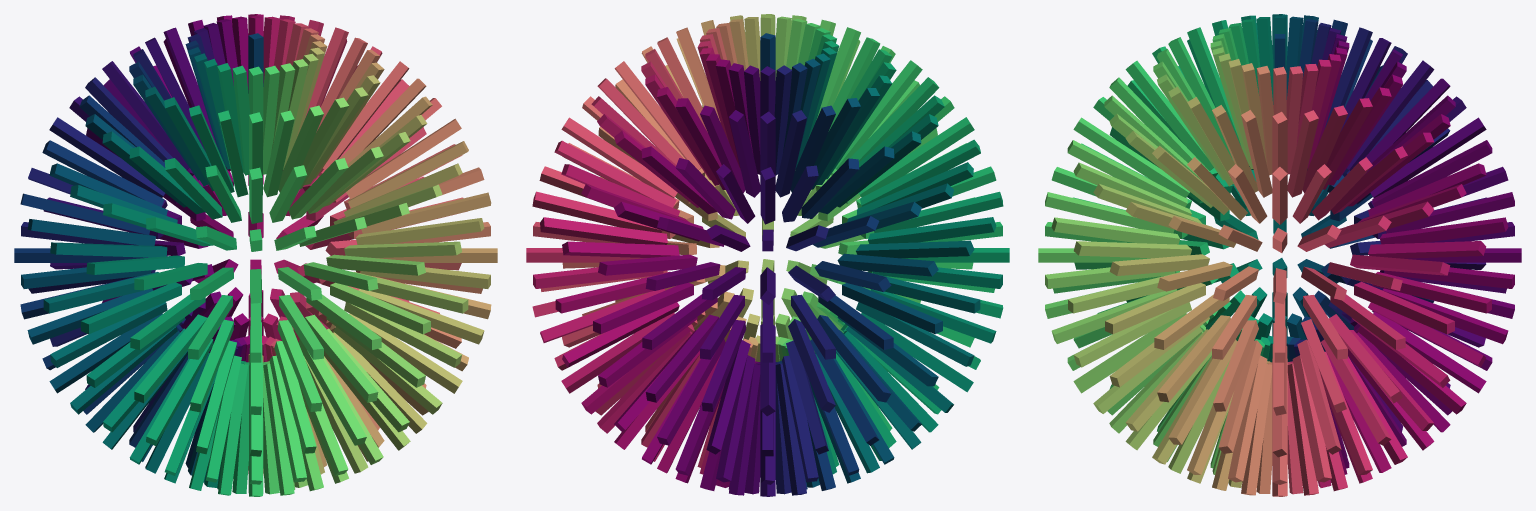
Rendered from normalYzero.fbx.
The picture shows the model from 3 angles, left to right: view 1: azimuth 30°, elevation 25°; view 2: azimuth 150°, elevation 25°; view 3: azimuth 270°, elevation 25°; orthographic projection.
Parts seen in each view (by area): view 1: OUT_PP; view 2: OUT_PP; view 3: OUT_PP.
Boxes of the visible parts, box(x1,y1,x2,y2) form: OUT_PP: box(14, 14, 497, 496); OUT_PP: box(526, 14, 1009, 496); OUT_PP: box(1038, 14, 1521, 496).
Bounding box in the file's own units: 440 × 440 × 440.
